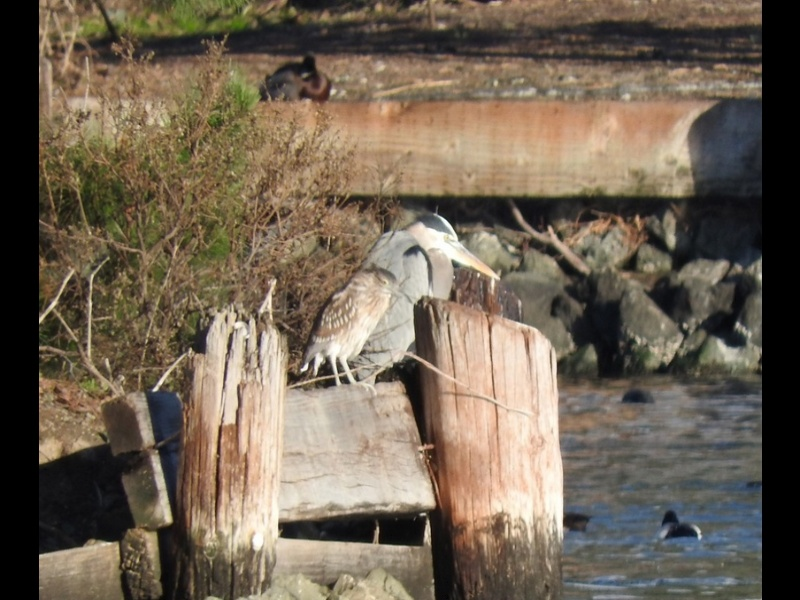heron: (307, 215, 503, 389)
